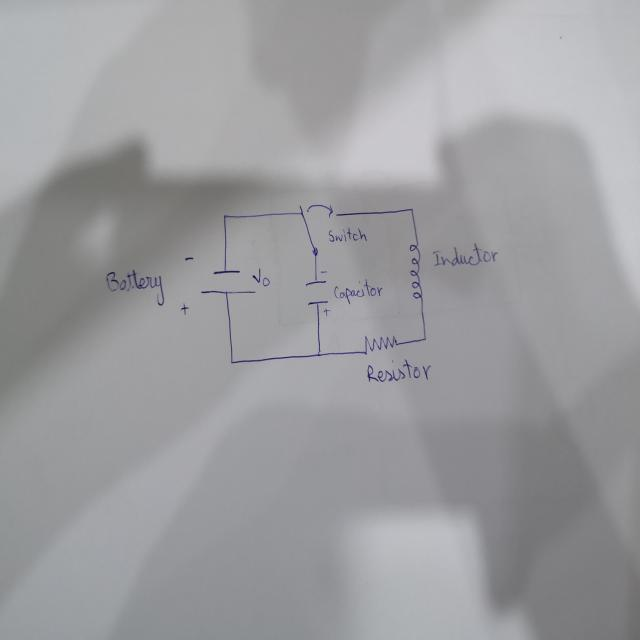capacitor: (304, 268, 331, 317)
inductor: (408, 240, 425, 300)
junction: (420, 332, 429, 343), (315, 348, 323, 359), (220, 210, 228, 220), (228, 358, 236, 366), (408, 205, 414, 214)
resistor: (362, 333, 397, 356)
source: (198, 268, 255, 296)
switch: (298, 199, 338, 258)
text: (107, 268, 169, 301), (365, 356, 433, 384), (332, 276, 383, 307), (431, 246, 499, 265), (327, 224, 368, 244), (252, 268, 270, 286)
